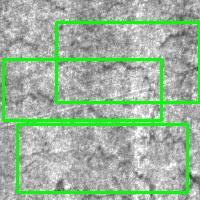crazing: (18, 124, 187, 192), (56, 22, 199, 102), (3, 59, 161, 120)
